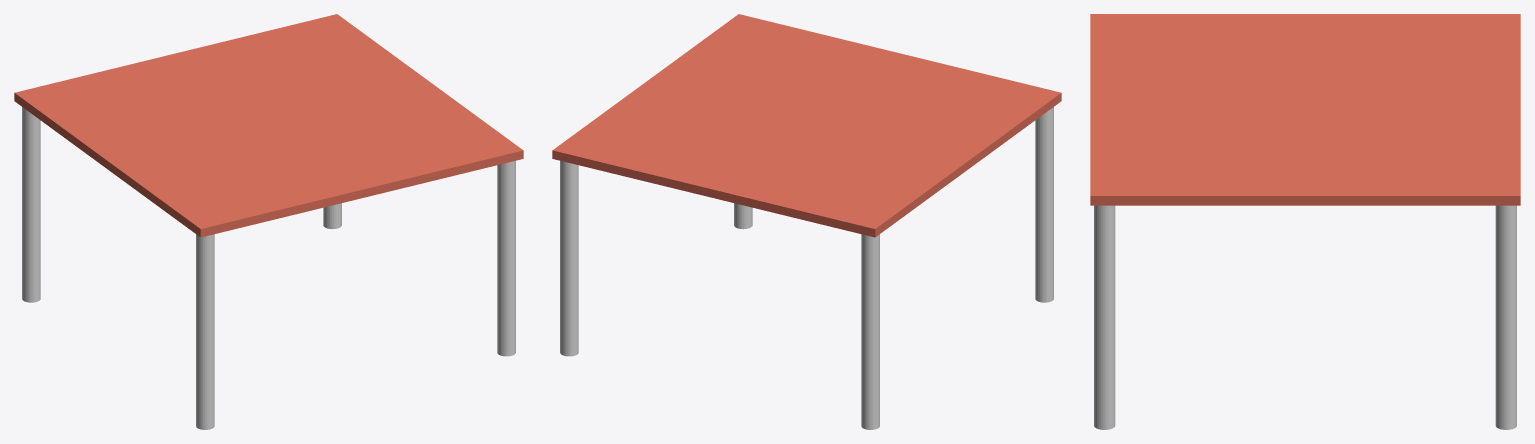
File: Table2.glb
The picture shows the model from 3 angles, left to right: view 1: azimuth 30°, elevation 25°; view 2: azimuth 150°, elevation 25°; view 3: azimuth 270°, elevation 25°; orthographic projection. The views are drawn at different scales.
Visible parts, largest first — view 1: Cube, Cube.003, Cube.002, Cube.004; view 2: Cube, Cube.004, Cube.001, Cube.003; view 3: Cube, Cube.001, Cube.002.
Part boxes in pixels (x1,y1,x2,y2): Cube: (14, 14, 523, 237); Cube.003: (196, 234, 214, 429); Cube.002: (497, 160, 515, 356); Cube.004: (22, 107, 40, 302); Cube: (552, 14, 1061, 237); Cube.004: (861, 234, 879, 429); Cube.001: (560, 160, 578, 356); Cube.003: (1035, 107, 1053, 302); Cube: (1090, 14, 1520, 205); Cube.001: (1495, 205, 1516, 429); Cube.002: (1094, 205, 1115, 429).
Bounding box in the file's own units: 1.2 × 0.725 × 1.2.
